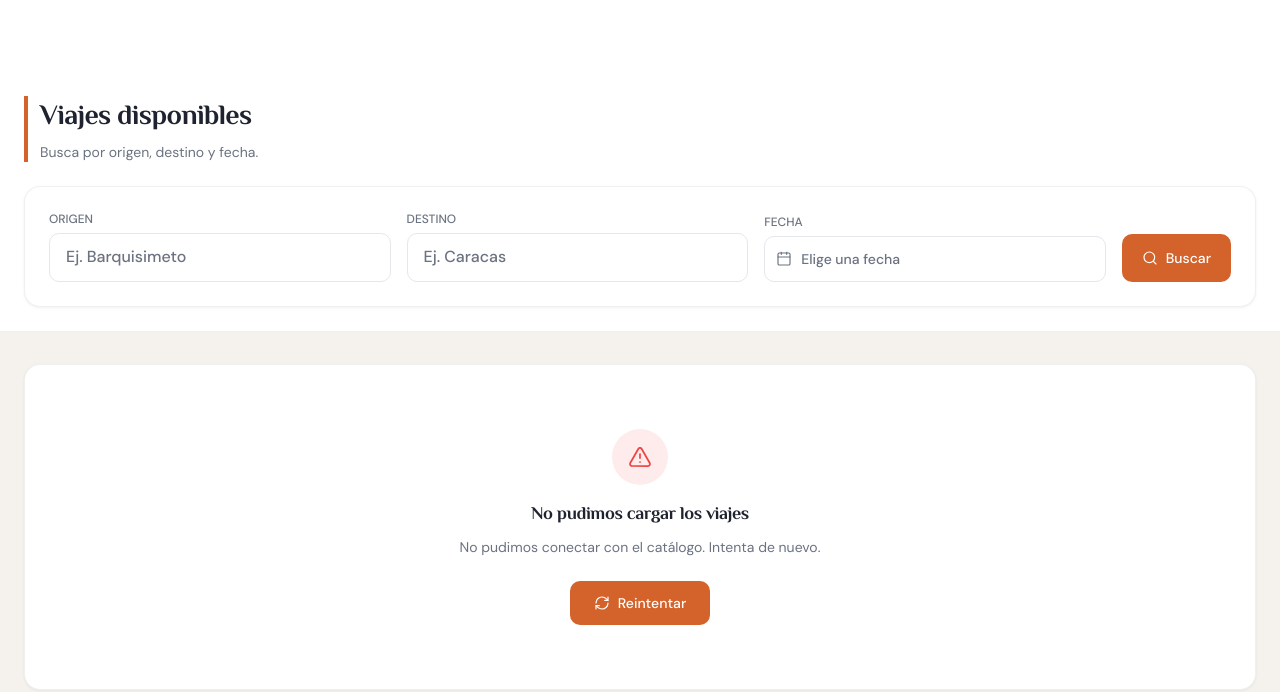
ViajesPage (MKT-002) › muestra estado de error con reintentar si la API falla
Expected: the heading "No pudimos cargar los viajes" is shown, 531,501 -> 749,529
Expected: the text "No pudimos conectar con el catálogo. Intenta de nuevo." is shown, 460,537 -> 820,557
Click the button "Reintentar" at (640, 603), box 570,581 -> 710,625
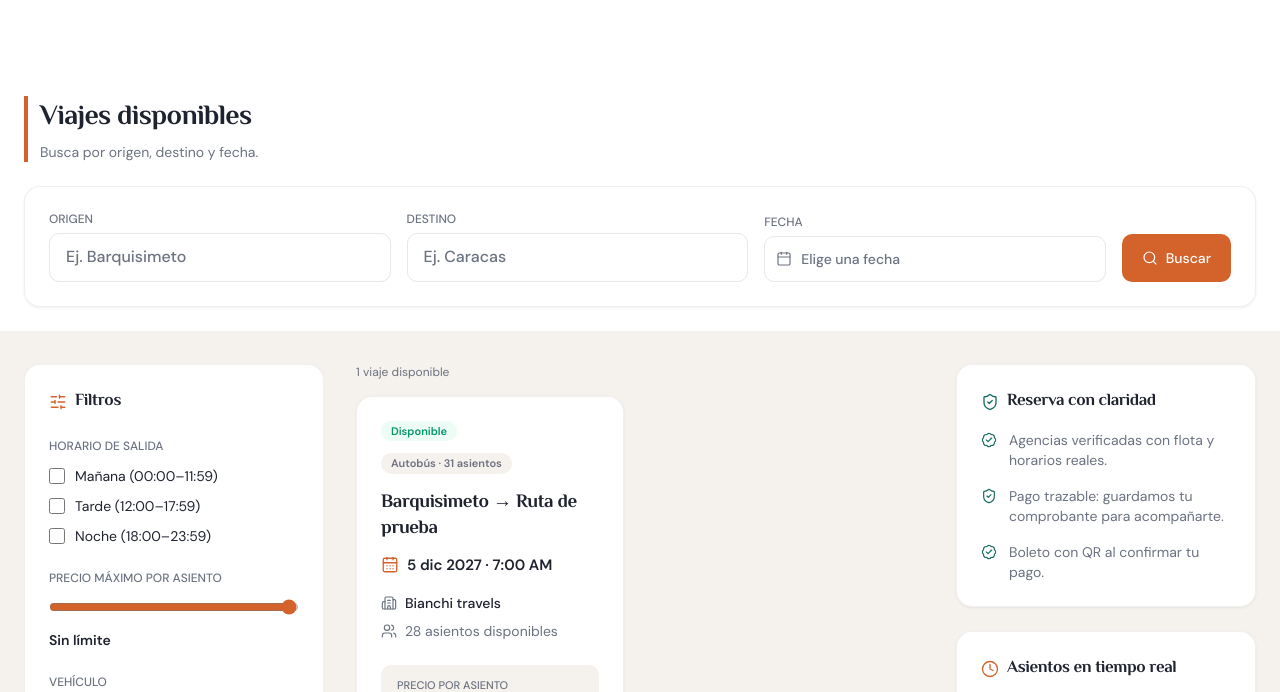
Now the heading "Barquisimeto → Ruta de prueba" is shown, box 381,490 -> 599,542
